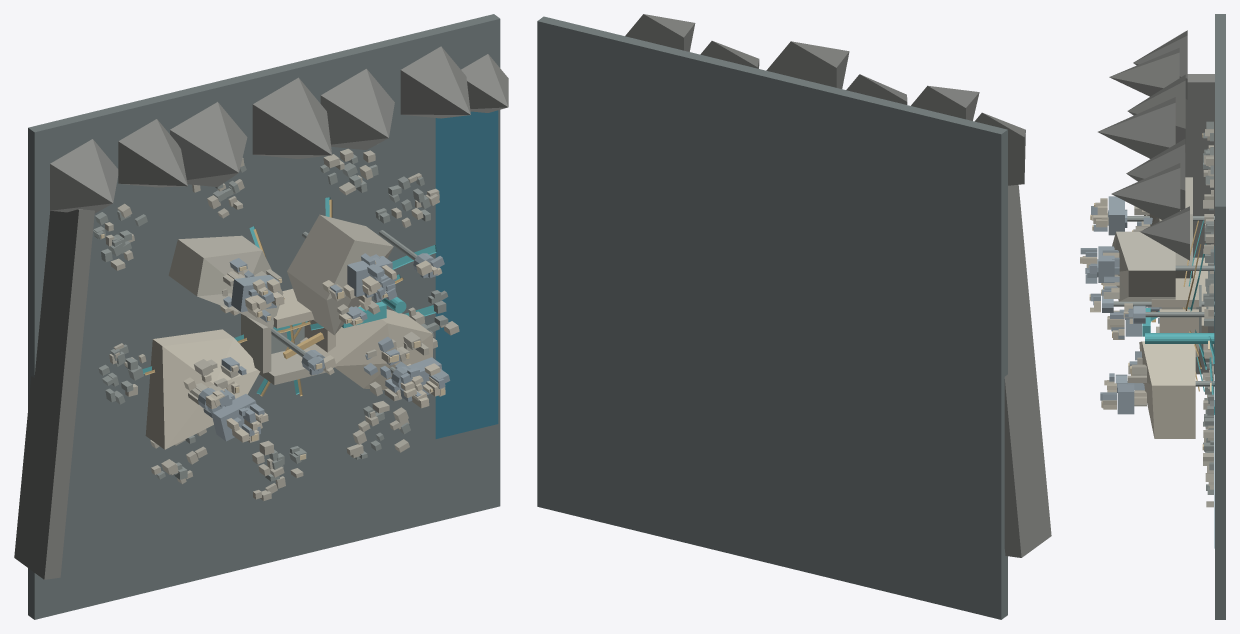
The model's file is A2-Confluence-Chambers.glb.
The picture shows the model from 3 angles, left to right: view 1: azimuth 30°, elevation 25°; view 2: azimuth 150°, elevation 25°; view 3: azimuth 270°, elevation 25°; orthographic projection. The views are drawn at different scales.
Visible parts, largest first — view 1: 10km_study_terrain, east_artificial_inland_sea, west_cliff_face, occupied_civic_shoulder_1, occupied_civic_shoulder_4, north_mountain_peak_4, occupied_civic_shoulder_2, north_mountain_peak_3, north_mountain_peak_5, occupied_civic_shoulder_3, north_mountain_peak_6, north_mountain_peak_1 (+8 smaller); view 2: 10km_study_terrain, west_cliff_face, north_mountain_peak_4, north_mountain_peak_6, north_mountain_peak_2, north_mountain_peak_1, north_mountain_peak_3, north_mountain_peak_5; view 3: 10km_study_terrain, occupied_civic_shoulder_3, west_cliff_face, occupied_civic_shoulder_4, north_mountain_peak_4, north_mountain_peak_6, north_mountain_peak_2, north_mountain_peak_7, north_mountain_peak_5, north_mountain_peak_3, north_mountain_peak_1, exchange_north_inhabited_gallery (+13 smaller).
Boxes of the visible parts, x1,y1,x2,y2 form: 10km_study_terrain: (28,14,500,619); east_artificial_inland_sea: (435,110,498,438); west_cliff_face: (14,209,94,579); occupied_civic_shoulder_1: (145,329,260,449); occupied_civic_shoulder_4: (287,214,393,335); north_mountain_peak_4: (252,77,331,158); occupied_civic_shoulder_2: (168,235,283,328); north_mountain_peak_3: (170,102,247,186); north_mountain_peak_5: (320,69,394,150); occupied_civic_shoulder_3: (300,305,432,390); north_mountain_peak_6: (400,46,470,118); north_mountain_peak_1: (50,139,118,213); 10km_study_terrain: (537,16,1007,619); west_cliff_face: (1004,184,1051,557); north_mountain_peak_4: (766,41,849,88); north_mountain_peak_6: (625,14,695,51); north_mountain_peak_2: (911,85,979,120); north_mountain_peak_1: (974,112,1025,185); north_mountain_peak_3: (846,74,907,104); north_mountain_peak_5: (700,41,759,68); 10km_study_terrain: (1215,14,1225,619); occupied_civic_shoulder_3: (1139,341,1195,438); west_cliff_face: (1185,74,1214,374); occupied_civic_shoulder_4: (1112,231,1175,301); north_mountain_peak_4: (1098,97,1175,158); north_mountain_peak_6: (1111,163,1180,219); north_mountain_peak_2: (1109,48,1179,96); north_mountain_peak_7: (1140,206,1189,260); north_mountain_peak_5: (1126,139,1185,210); north_mountain_peak_3: (1127,74,1185,152); north_mountain_peak_1: (1133,30,1187,99); exchange_north_inhabited_gallery: (1151,277,1198,307).
Size of the model in its own units: 10.37 by 10.27 by 3.2.
